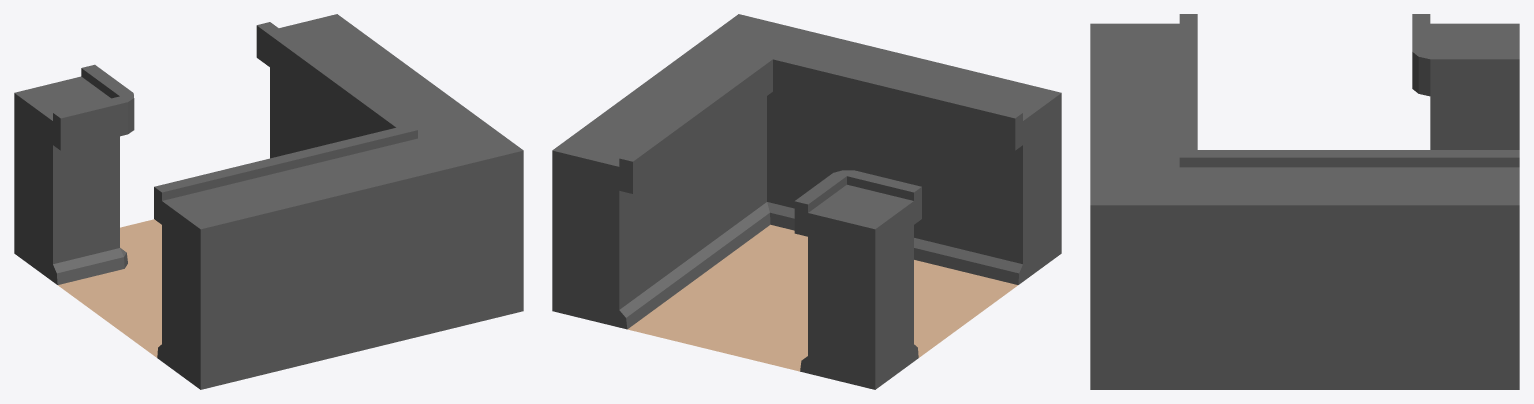
The model's file is Segment_Corner.FBX.
The picture shows the model from 3 angles, left to right: view 1: azimuth 30°, elevation 25°; view 2: azimuth 150°, elevation 25°; view 3: azimuth 270°, elevation 25°; orthographic projection. The views are drawn at different scales.
Visible parts, largest first — view 1: Box106, Box108, Box102, Box107, Box109, Box103, Plane010, Box104, Box105; view 2: Box106, Box108, Box103, Plane010, Box107, Box102, Box105, Box104, Box109; view 3: Box103, Box104, Box105, Box109, Box108, Box102, Box106, Box107.
Part boxes in pixels (x1,y1,x2,y2): Box106: (154,167,281,389); Box108: (14,64,134,284); Box102: (235,147,362,370); Box107: (316,127,442,350); Box109: (397,116,523,330); Box103: (256,14,383,158); Plane010: (58,219,161,357); Box104: (303,48,429,146); Box105: (349,82,476,135); Box106: (934,73,1061,284); Box108: (794,170,921,389); Box103: (552,116,679,329); Plane010: (627,224,1017,371); Box107: (773,33,899,230); Box102: (853,53,980,265); Box105: (646,48,772,260); Box104: (599,82,726,294); Box109: (692,14,818,226); Box103: (1412,150,1519,389); Box104: (1305,150,1412,389); Box105: (1197,150,1304,389); Box109: (1090,150,1197,389); Box108: (1412,14,1519,149); Box102: (1090,59,1197,114); Box106: (1090,14,1197,68); Box107: (1090,104,1197,159).
Bounding box in the file's own units: 400 × 200 × 400.
